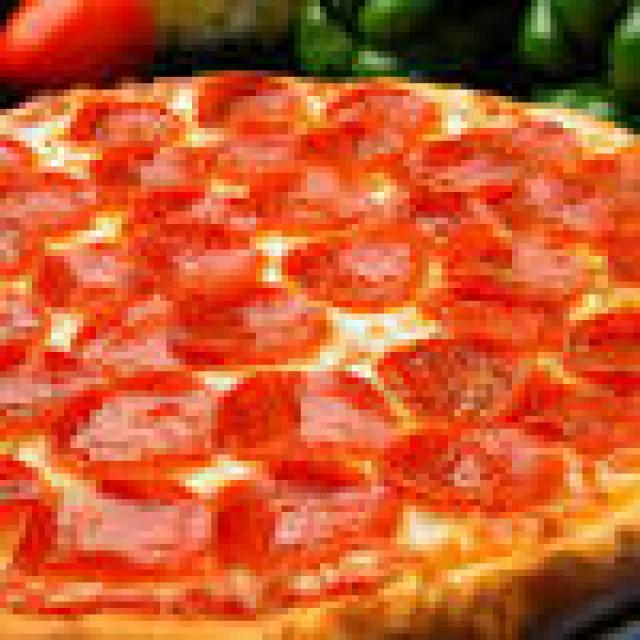피자: (0, 70, 640, 640)
